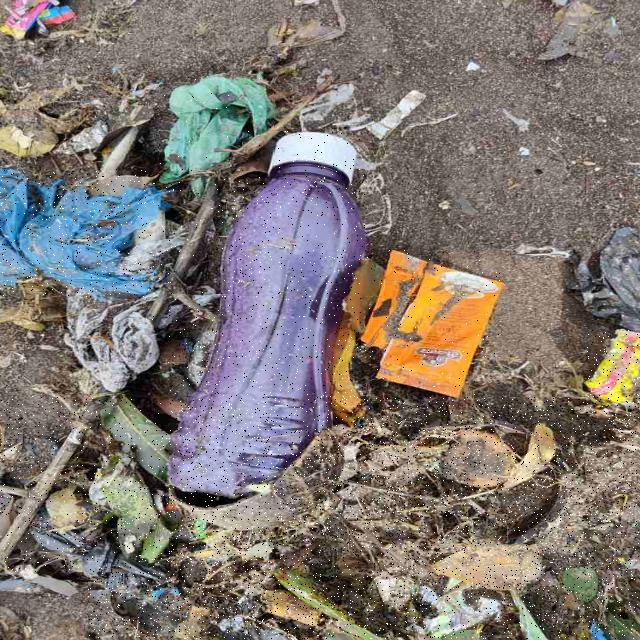biowaste: (89, 397, 639, 639), (0, 396, 169, 572), (146, 185, 214, 321)
plastic: (168, 132, 365, 498), (0, 170, 160, 297), (160, 75, 274, 182)
wrapper: (362, 251, 504, 398), (586, 331, 640, 403)
